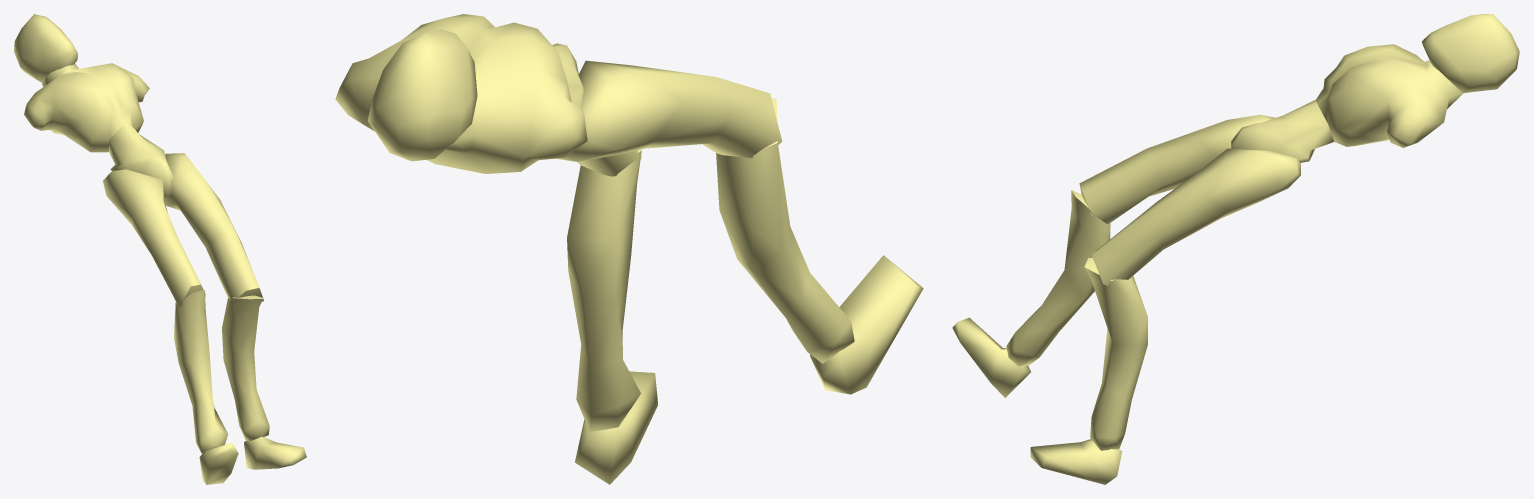
File: filth15.obj
3 views of the same model, side by side, from view 1: azimuth 30°, elevation 25°; view 2: azimuth 150°, elevation 25°; view 3: azimuth 270°, elevation 25° (orthographic). The views are drawn at different scales.
Parts seen in each view (by area): view 1: Melee_Husk; view 2: Melee_Husk; view 3: Melee_Husk.
Boxes of the visible parts, x1,y1,x2,y2 form: Melee_Husk: (14, 14, 306, 484); Melee_Husk: (335, 14, 923, 484); Melee_Husk: (952, 14, 1519, 484).
Bounding box in the file's own units: 22.87 × 57.4 × 68.49.
